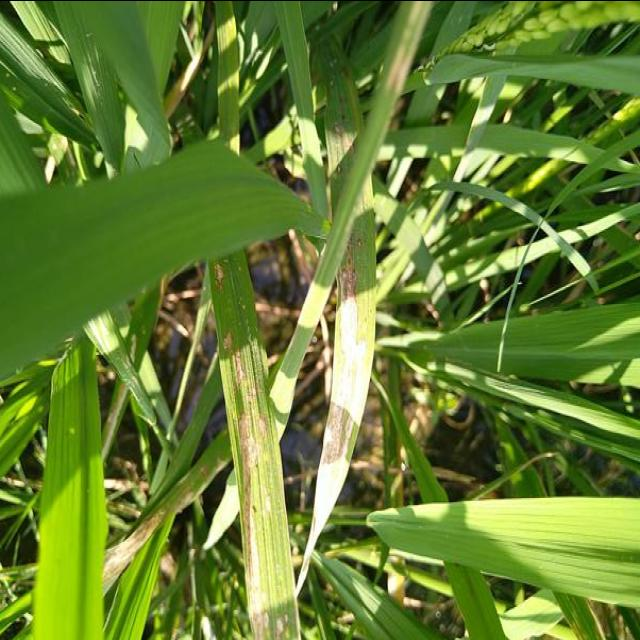Leaf Streak: (208, 248, 301, 640), (296, 208, 377, 593), (102, 430, 232, 596), (309, 35, 359, 204)
